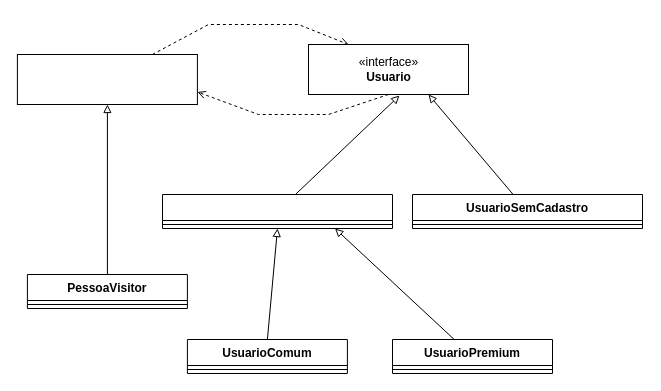
The diagram is 661 pixels wide and 391 high, and some of its shapes have lost their labels. The box of each missing label's shape, as (x1, y1, x2, y2) in pixels:
UsuarioComCadastro: (162, 194, 392, 228)
«interface» Visitor: (16, 54, 197, 104)
